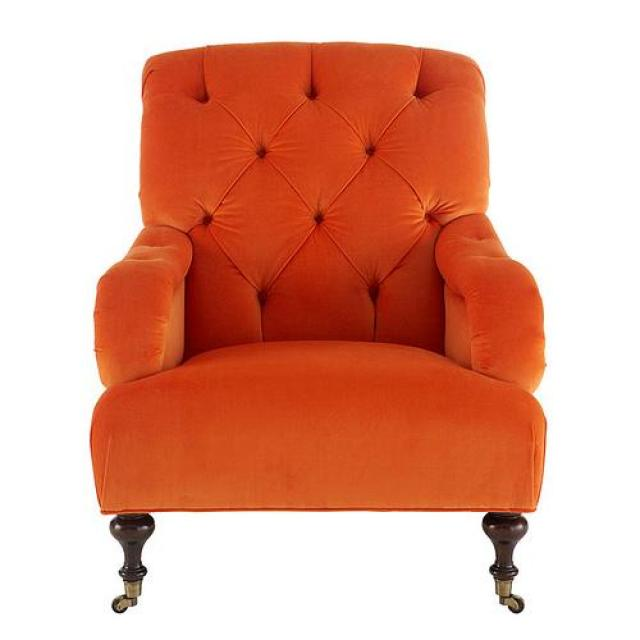sofa: (86, 46, 546, 615)
